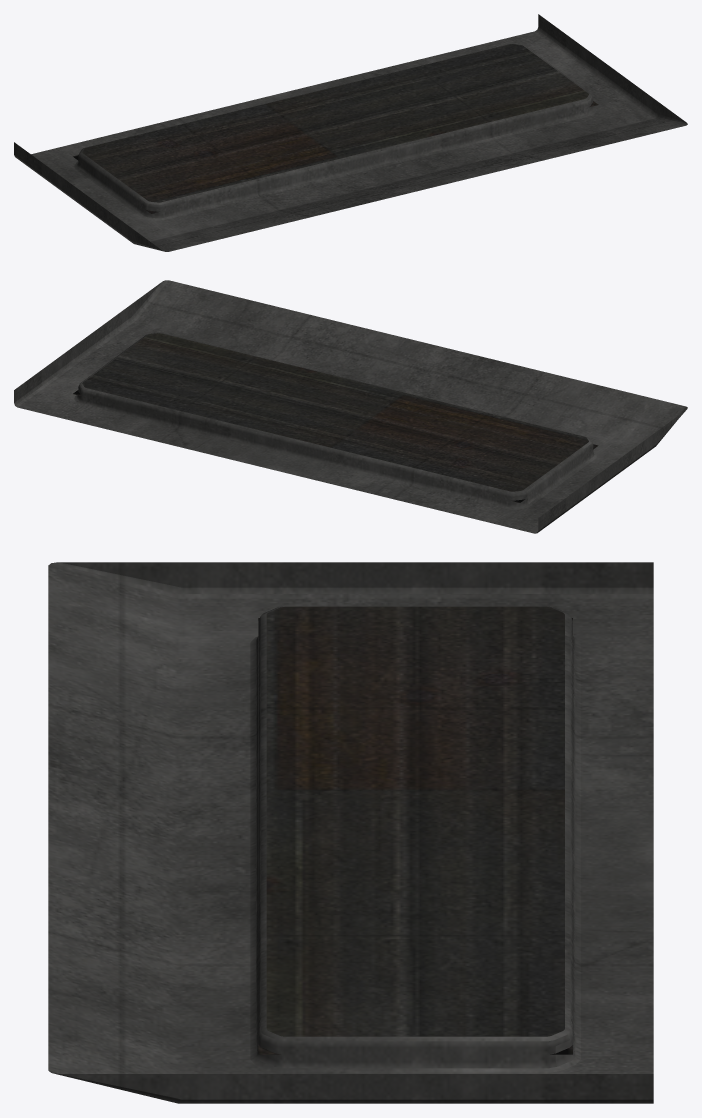
File: ceiling_peace_1.fbx
3 views of the same model, one above another, from view 1: azimuth 30°, elevation 25°; view 2: azimuth 150°, elevation 25°; view 3: azimuth 270°, elevation 25° (orthographic). The views are drawn at different scales.
Parts seen in each view (by area): view 1: ceiling_peace_1; view 2: ceiling_peace_1; view 3: ceiling_peace_1.
Boxes of the visible parts, x1,y1,x2,y2 form: ceiling_peace_1: (14,14,687,251); ceiling_peace_1: (14,280,687,533); ceiling_peace_1: (48,562,653,1103).
Size of the model in its own units: 3 by 1.5 by 0.09.
